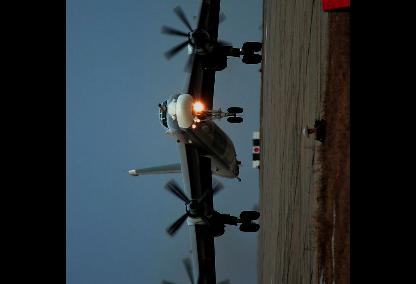Su57: (123, 0, 266, 283)
